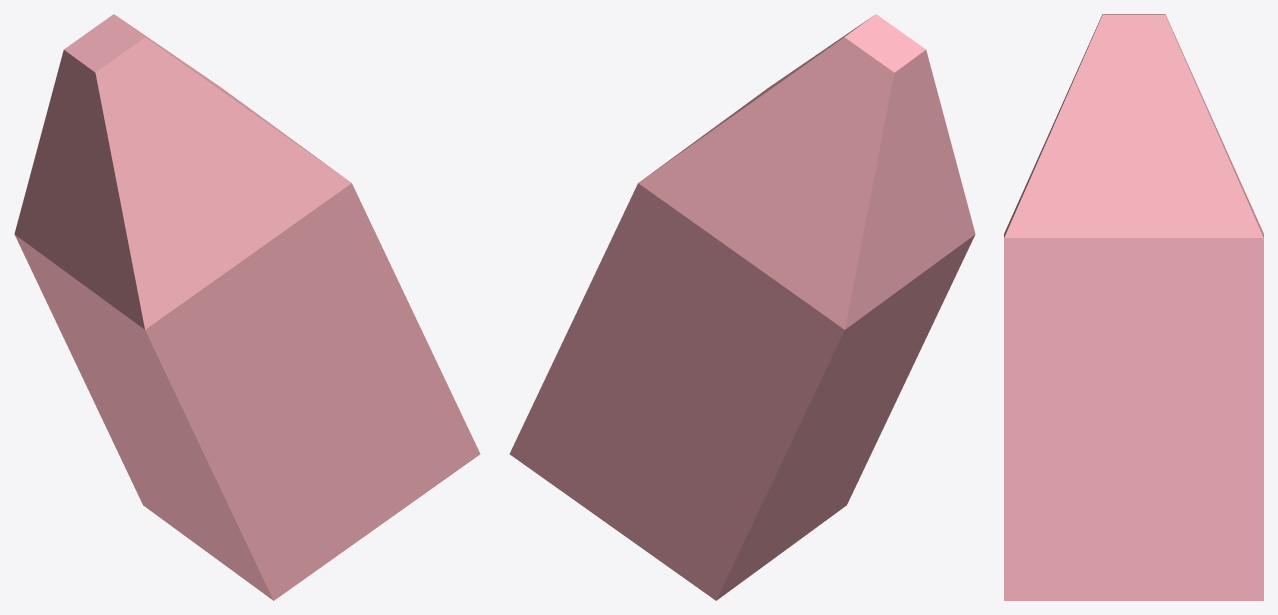
File: L_Arm.gltf
3 views of the same model, side by side, from view 1: azimuth 30°, elevation 25°; view 2: azimuth 150°, elevation 25°; view 3: azimuth 270°, elevation 25° (orthographic).
Visible parts, largest first — view 1: arm_R; view 2: arm_R; view 3: arm_R.
Boxes of the visible parts, left/top/right/bottom form: arm_R: left=14, top=14, right=480, bottom=600; arm_R: left=509, top=14, right=975, bottom=600; arm_R: left=1004, top=14, right=1263, bottom=600.
Size of the model in its own units: 2.37 by 3.69 by 1.6.
1 material, 1 textured.
